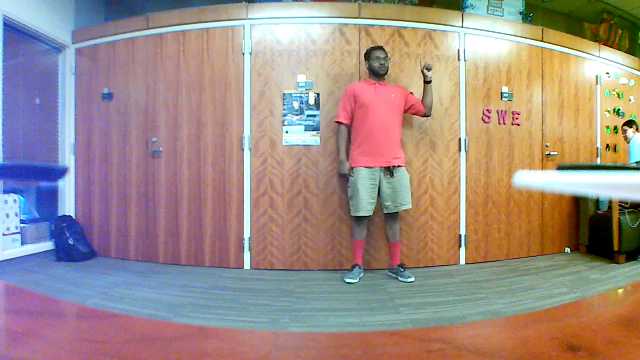up: (417, 55, 438, 84)
